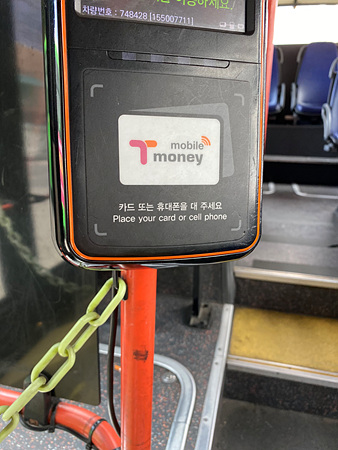terminal: (51, 3, 261, 258)
